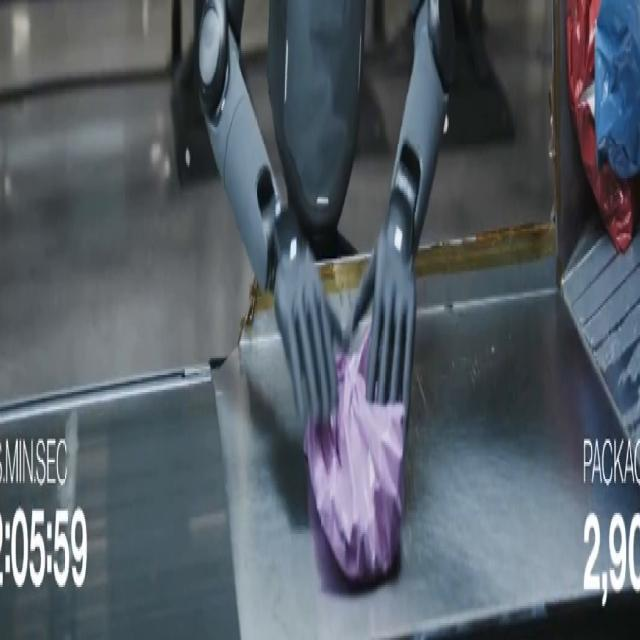package: (305, 331, 404, 584), (566, 0, 636, 252), (595, 0, 639, 180)
